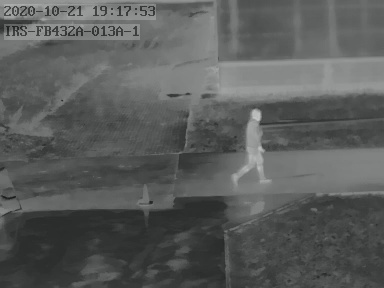person: (229, 106, 271, 185)
